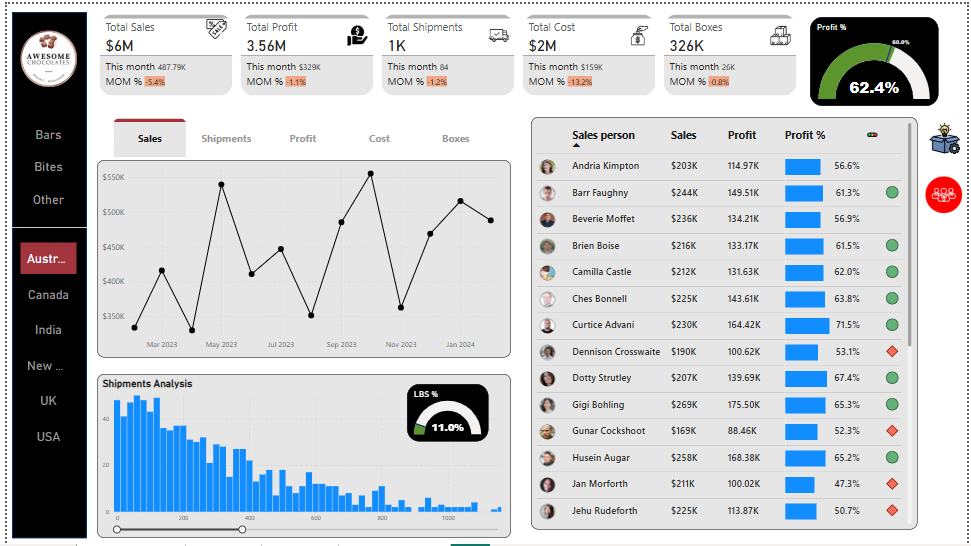

What the dashboard file says about the page in this screenshot:
{"tool":"powerbi","page":{"name":"Sales Report","canvas":[1920,1080],"ordinal":0},"visuals":[{"type":"shape","box":[10,15,150,1052.5],"z":0},{"type":"cardVisual","fields":{"Data":["_Measures.Total Sales","_Measures.Total Profit","_Measures.Total Shipments","_Measures.Total Cost","_Measures.Total Boxes"]},"box":[179.6,15.7,1405.8,172.9],"z":1000},{"type":"gauge","fields":{"Y":["_Measures.Profit %"]},"box":[1606.8,26.3,256.8,177.8],"z":2000},{"type":"image","box":[22.5,47.5,122.5,122.5],"z":3000},{"type":"lineChart","fields":{"Y":["_Measures.Total Sales"],"Category":["calendar.Start of Month"]},"box":[180,312.5,827.5,395],"z":4000},{"type":"advancedSlicerVisual","fields":{"Values":["Parameter.Parameter"]},"box":[208.8,224.6,768,87.6],"z":5000},{"type":"columnChart","title":"Shipments Analysis","fields":{"Category":["shipments.Boxes (bins)"],"Y":["_Measures.Total Shipments"]},"box":[180,740,827.5,327.5],"z":6000},{"type":"gauge","fields":{"Y":["_Measures.LBS %"]},"box":[800,760,162.5,115],"z":7000},{"type":"tableEx","title":"People Table","fields":{"Values":["people.Picture","people.Sales person","_Measures.Total Sales","_Measures.Total Profit","_Measures.Profit %","_Measures.Profit Target Indicator"]},"box":[1047.5,225,772.5,825],"z":8000},{"type":"image","title":"Product","box":[1837.5,225,75,87.5],"z":10000},{"type":"image","title":"People","box":[1832.5,340,82.5,82.5],"z":11000},{"type":"advancedSlicerVisual","fields":{"Values":["products.Category"]},"box":[22.5,225,122.5,197.5],"z":12000},{"type":"advancedSlicerVisual","fields":{"Values":["locations.Geo"]},"box":[22.5,472.5,122.5,432.5],"z":13000},{"type":"shape","box":[10,422.5,150,50],"z":14000}]}

Visuals, with their boxes in screenshot pixels (x1, y1, x2, y2), scaled from the page's 1920x1080 canvas onto the 971x546 screenshot:
shape: bbox(5, 8, 81, 540)
cardVisual - _Measures.Total Sales x _Measures.Total Profit: bbox(91, 8, 802, 95)
gauge - _Measures.Profit %: bbox(813, 13, 942, 103)
image: bbox(11, 24, 73, 86)
lineChart - _Measures.Total Sales x calendar.Start of Month: bbox(91, 158, 510, 358)
advancedSlicerVisual - Parameter.Parameter: bbox(106, 114, 494, 158)
"Shipments Analysis" columnChart: bbox(91, 374, 510, 540)
gauge - _Measures.LBS %: bbox(405, 384, 487, 442)
"People Table" tableEx: bbox(530, 114, 920, 531)
"Product" image: bbox(929, 114, 967, 158)
"People" image: bbox(927, 172, 968, 214)
advancedSlicerVisual - products.Category: bbox(11, 114, 73, 214)
advancedSlicerVisual - locations.Geo: bbox(11, 239, 73, 458)
shape: bbox(5, 214, 81, 239)
